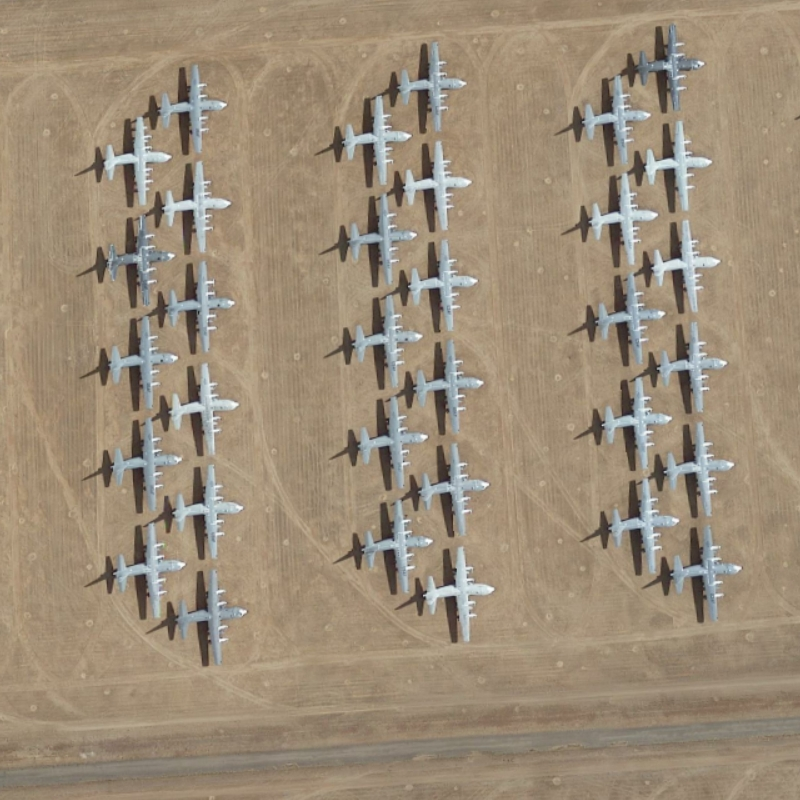A2: (420, 542, 504, 650), (341, 289, 428, 391), (411, 439, 500, 537), (403, 234, 489, 335), (176, 568, 261, 669), (98, 309, 182, 411), (340, 186, 423, 289), (171, 456, 252, 561), (357, 493, 436, 599), (670, 520, 749, 626), (109, 519, 190, 622), (153, 55, 235, 156), (398, 137, 487, 229), (581, 166, 661, 268), (591, 369, 673, 468), (350, 394, 436, 488), (605, 476, 683, 579), (661, 419, 742, 518), (391, 31, 470, 132), (588, 265, 666, 366), (659, 314, 736, 416), (411, 336, 487, 439), (647, 216, 726, 315), (161, 261, 244, 355), (98, 210, 176, 309), (162, 155, 239, 255), (639, 118, 720, 212), (165, 361, 245, 456), (574, 71, 654, 166), (96, 109, 173, 207), (334, 92, 415, 185), (105, 416, 181, 511), (636, 16, 707, 115)
